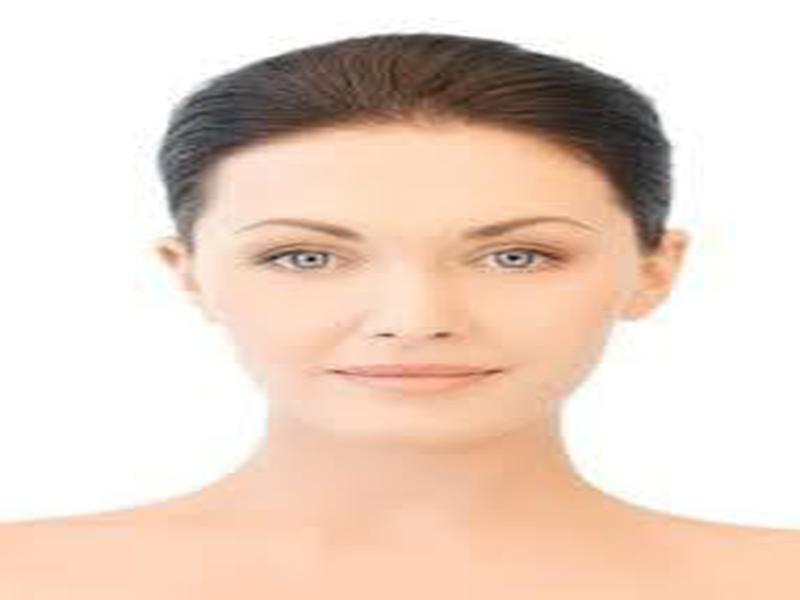without_mask: (208, 152, 607, 454)
